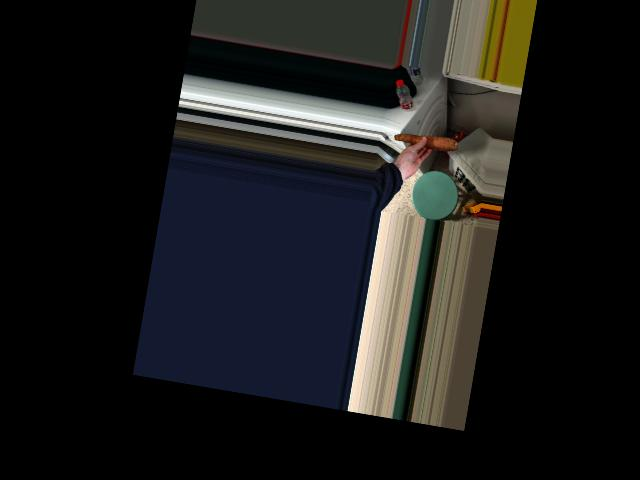sweet_potato: (391, 127, 457, 158)
